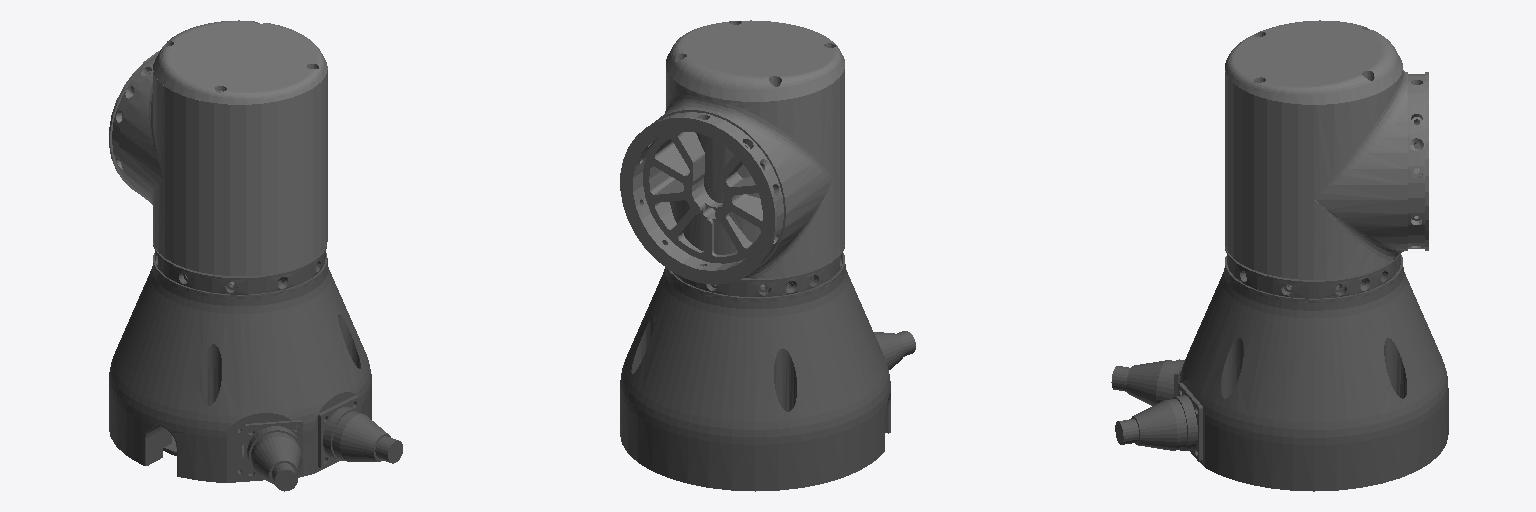
URDF robot description (eRobo3):
<robot name="eRobo3" version="1.0">
  <joint name="Joint_1" type="revolute">
    <safety_controller k_position="100.0" k_velocity="40.0" soft_lower_limit="-2.8973" soft_upper_limit="2.8973" />
    <origin rpy="0.00000 0.00000 0.00000" xyz="0.00000 0.00000 0.00000"/>
    <parent link="base_link"/>
    <child link="Link_1"/>
    <axis xyz="0.00000 0.00000 1.00000"/>
    <limit effort="87" lower="-2.9671" upper="2.9671" velocity="2.3925" />
  </joint>
  <link name="Link_1">
    <collision name="Link_1_collision">
      <origin rpy="0.00000 0.00000 0.00000" xyz="0.00000 0.00000 0.00000"/>
      <geometry>
        <mesh filename="package://erob_arm/meshes/Link_1.stl" scale="1.00000 1.00000 1.00000"/>
      </geometry>
    </collision>
    <inertial>
      <inertia ixx="0.00054" ixy="0.00000" ixz="0.00000" iyy="0.00052" iyz="0.00000" izz="0.00054"/>
      <origin rpy="0.00000 0.00000 0.00000" xyz="0.00000 0.00308 0.13617"/>
      <mass value="0.50622"/>
    </inertial>
    <visual name="Link_1_visual">
      <origin rpy="0.00000 0.00000 0.00000" xyz="0.00000 0.00000 0.00000"/>
      <material name="#ffffffff"/>
      <geometry>
        <mesh filename="package://erob_arm/meshes/Link_1.stl" scale="1.00000 1.00000 1.00000"/>
      </geometry>
    </visual>
  </link>
  <link name="base_link">
    <collision name="base_link_collision">
      <origin rpy="0.00000 0.00000 0.00000" xyz="0.00000 0.00000 0.00000"/>
      <geometry>
        <mesh filename="package://erob_arm/meshes/base_link.stl" scale="1.00000 1.00000 1.00000"/>
      </geometry>
    </collision>
    <inertial>
      <inertia ixx="0.00083" ixy="0.00001" ixz="0.00001" iyy="0.00085" iyz="0.00003" izz="0.00110"/>
      <origin rpy="0.00000 0.00000 0.00000" xyz="0.00095 -0.00172 0.03600"/>
      <mass value="0.47602"/>
    </inertial>
    <visual name="base_link_visual">
      <origin rpy="0.00000 0.00000 0.00000" xyz="0.00000 0.00000 0.00000"/>
      <material name="base"/>
      <geometry>
        <mesh filename="package://erob_arm/meshes/base_link.stl" scale="1.00000 1.00000 1.00000"/>
      </geometry>
    </visual>
  </link>
  <material name="#ffffffff">
    <color rgba="0.50000 0.50000 0.50000 1.0000"/>
  </material>
    <material name="base">
    <color rgba="0.40000 0.40000 0.40000 1.0000"/>
  </material>
</robot>

--- Facts derived from the render (not from the file) ---
Views: 3 orthographic renders of the robot side by side, from view 1: azimuth 30°, elevation 25°; view 2: azimuth 150°, elevation 25°; view 3: azimuth 270°, elevation 25°.
Robot: eRobo3 — 2 links, 1 joints (1 revolute); root link base_link; default pose: every joint at zero.
Visible links, largest first — view 1: base_link, Link_1; view 2: base_link, Link_1; view 3: base_link, Link_1.
Link boxes in pixels (left/top/right/bottom): base_link: left=109, top=242, right=402, bottom=491; Link_1: left=109, top=20, right=327, bottom=284; base_link: left=620, top=245, right=915, bottom=491; Link_1: left=620, top=20, right=844, bottom=287; base_link: left=1111, top=247, right=1448, bottom=491; Link_1: left=1225, top=20, right=1428, bottom=287.
Bounding box of the posed robot: 0.128 × 0.1604 × 0.2023 m (x, y, z).
Meshes: 2 distinct files referenced, 2 mesh visuals loaded (2 binary STL).
